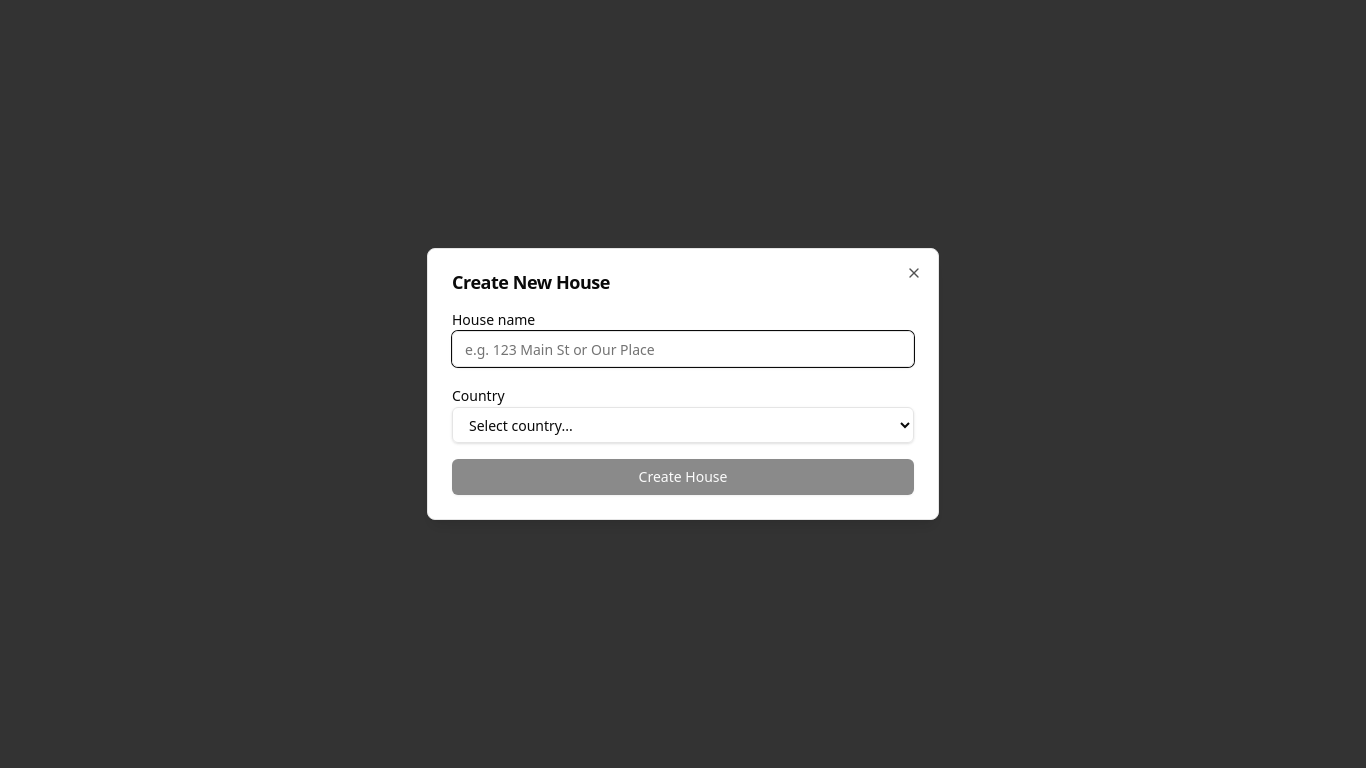
Test: CreateHouseDialog › does NOT navigate when creation fails
Type "New House" into the field labelled "House name" at (683, 349), box x1=452 y1=331 x2=914 y2=367
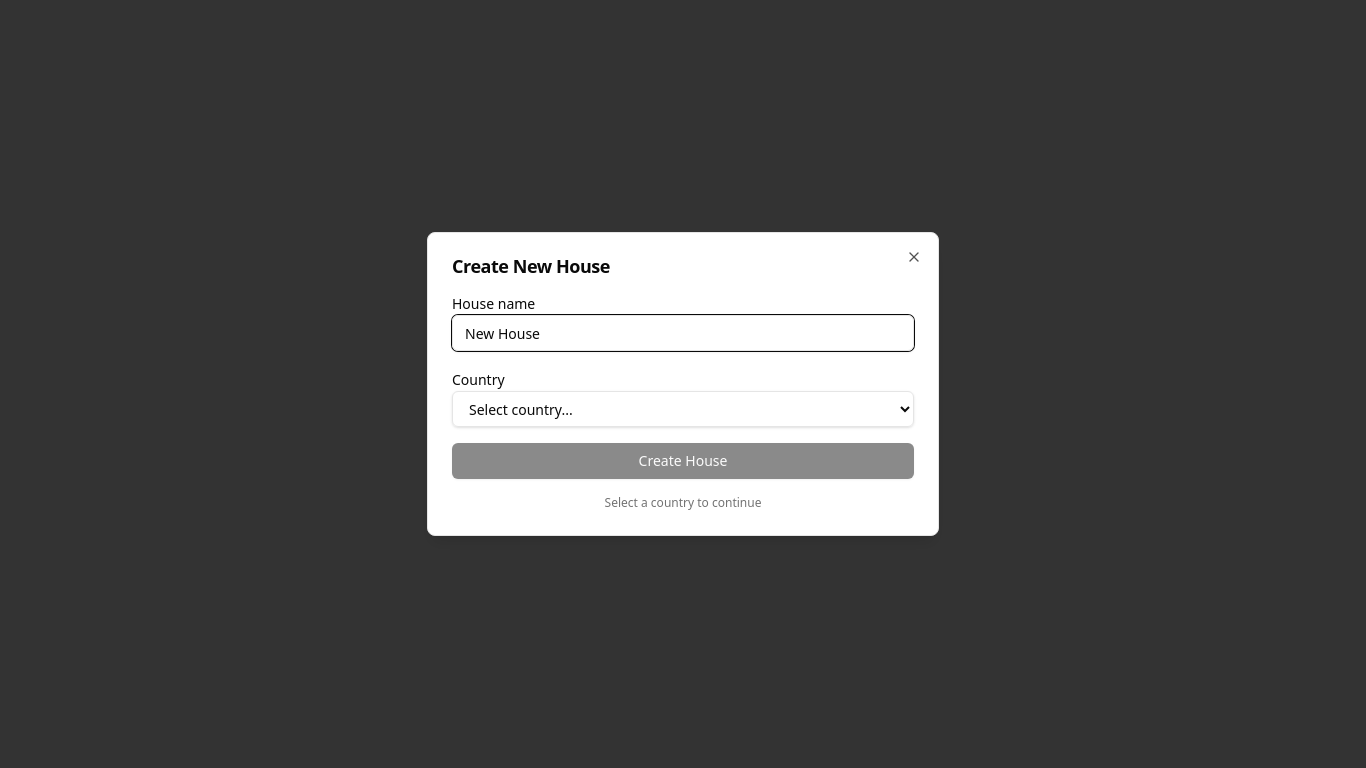
Select "Spain" in the dropdown labelled "Country" at (683, 409), box x1=452 y1=391 x2=914 y2=427
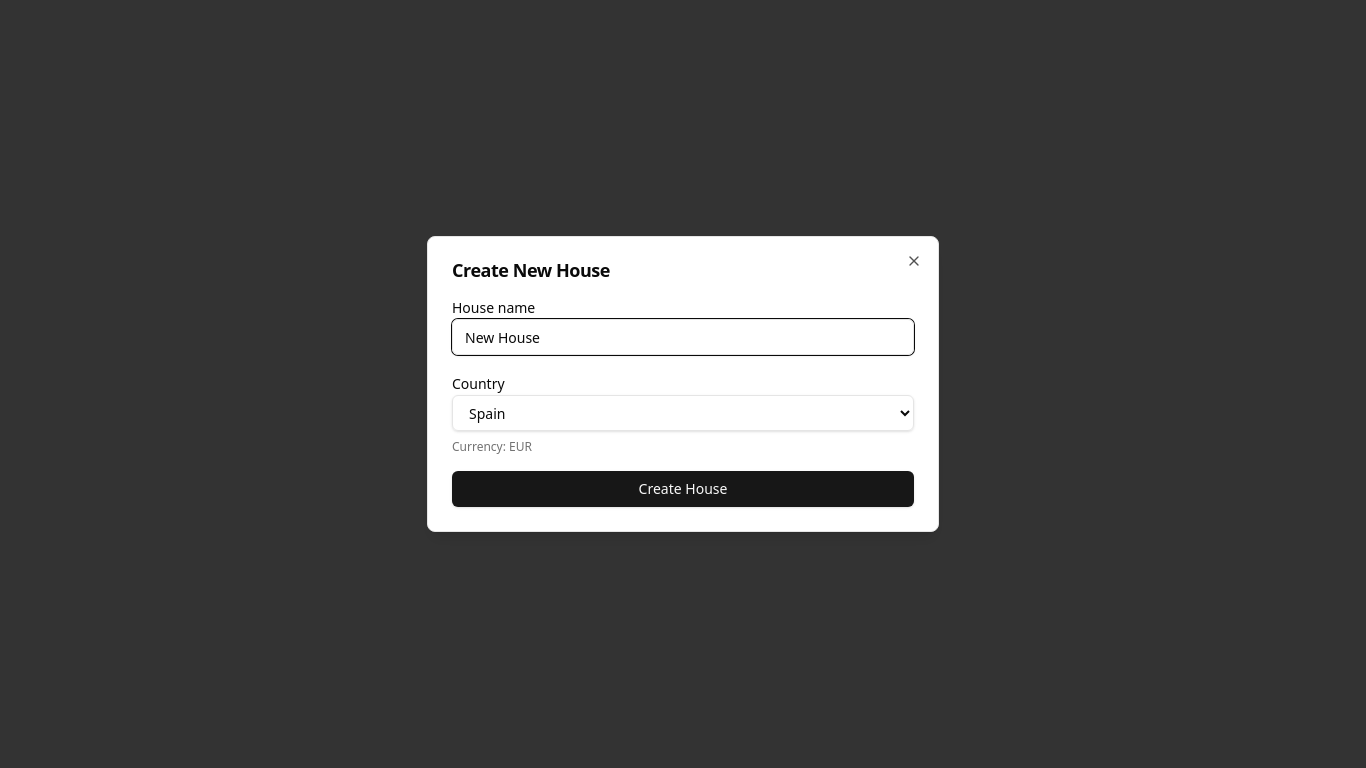
Click the button "Create House" at (683, 489), box x1=452 y1=471 x2=914 y2=507
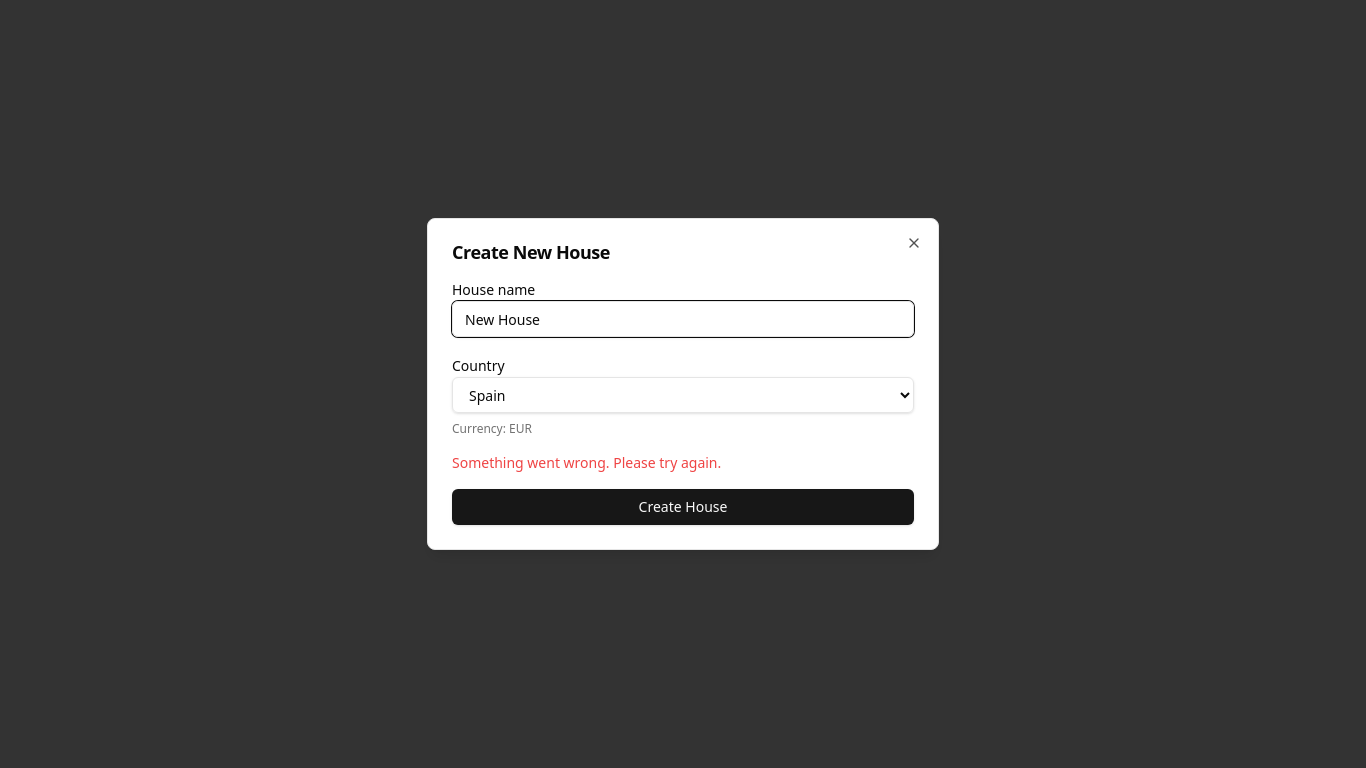
Expected: the text "Something went wrong. Please try again." is shown, x1=452 y1=453 x2=721 y2=472
